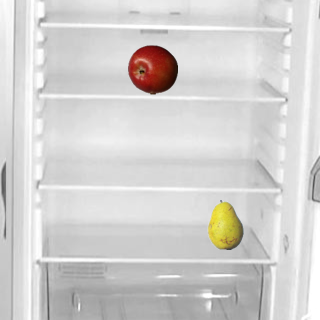Apple Braeburn: (127, 44, 177, 94)
Pear Monster: (200, 199, 250, 249)
